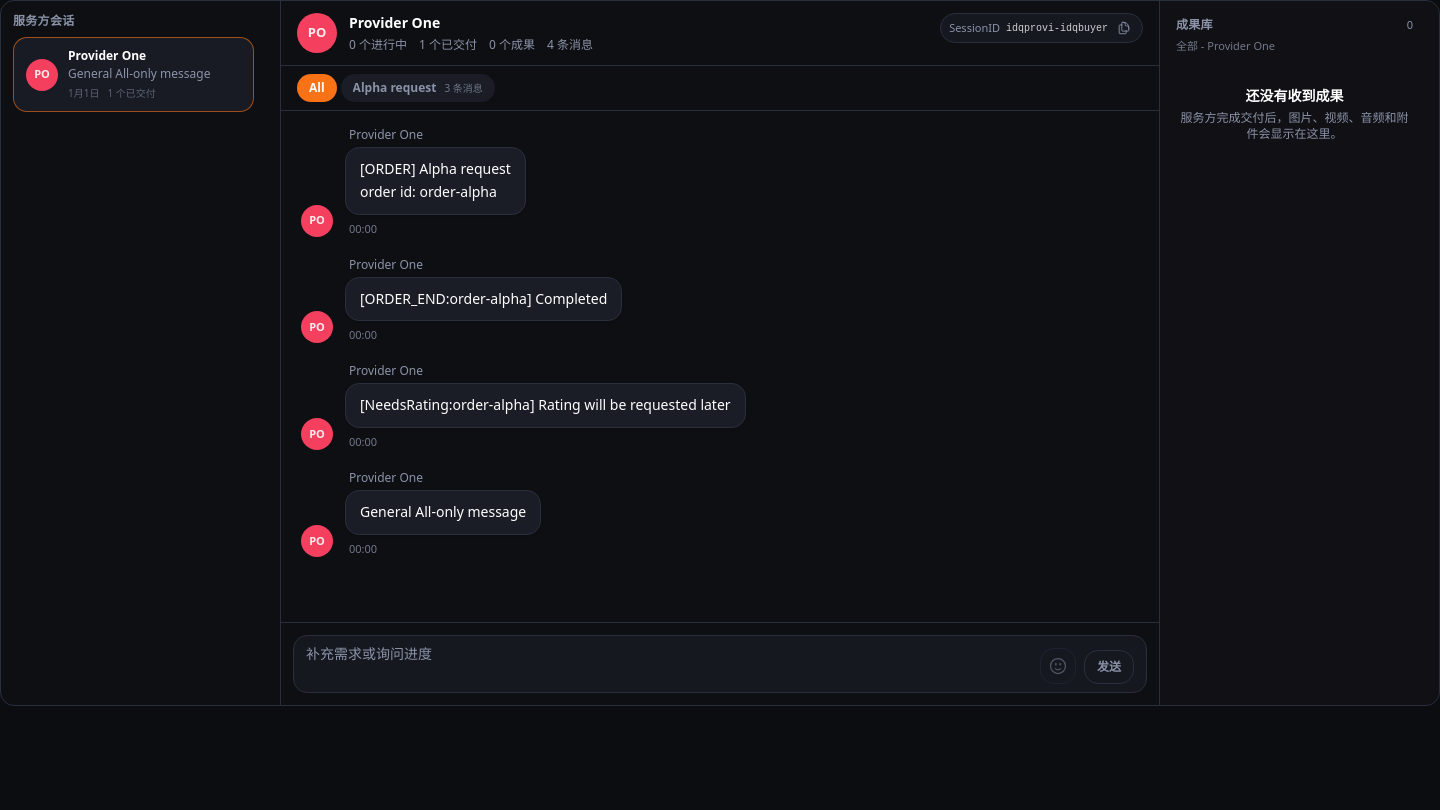
Test case: DeliveryPage layout › shows order protocol messages in All and the matching order tab
Expected: the text "[ORDER_END:order-alpha] Completed" is shown, x1=360 y1=288 x2=607 y2=310
Expected: the text "[NeedsRating:order-alpha] Rating will be requested later" is shown, x1=360 y1=394 x2=731 y2=417
Step 1. Click the tab "Alpha request 3 条消息" → (418, 88), box x1=341 y1=74 x2=495 y2=102
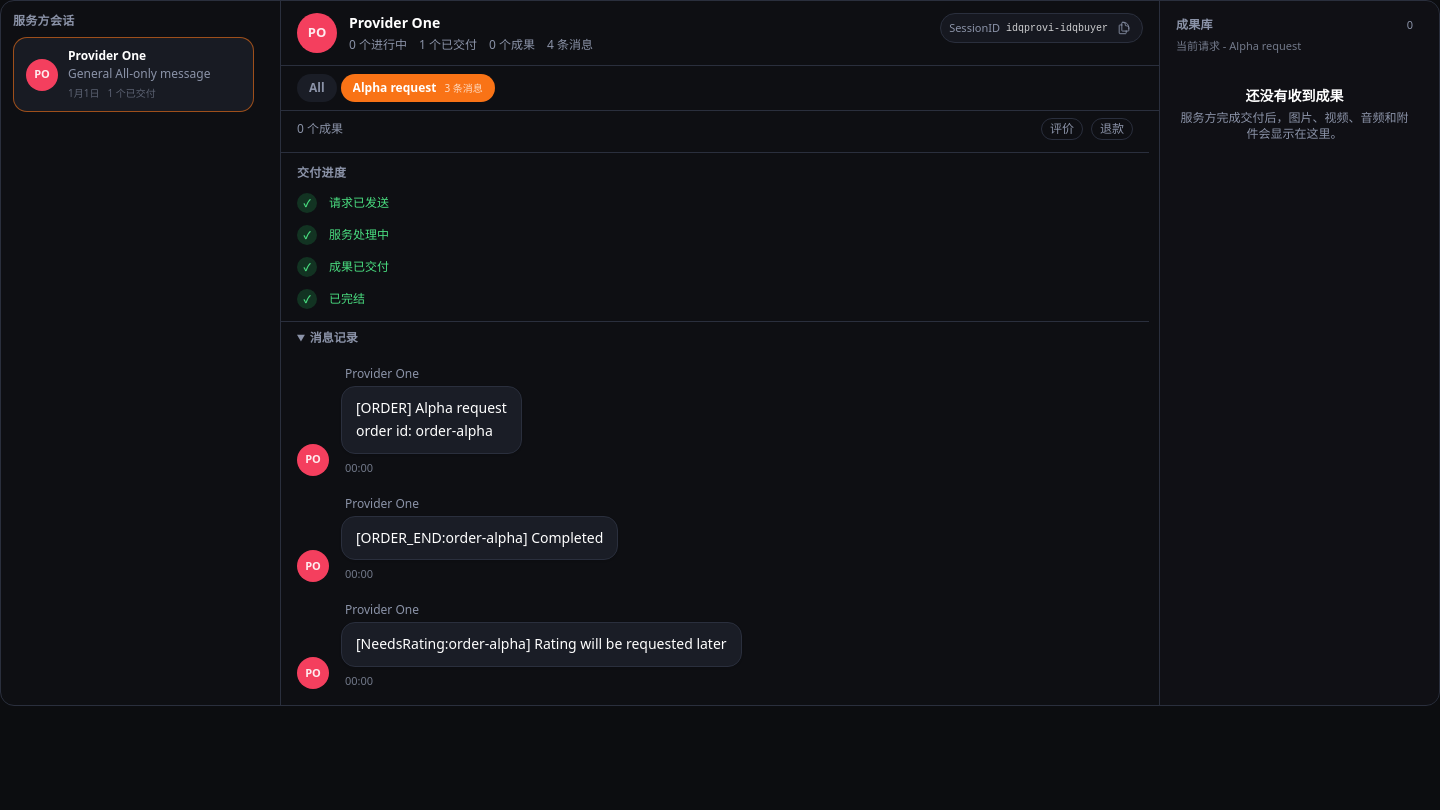
Expected: the text "[ORDER_END:order-alpha] Completed" is shown, x1=356 y1=526 x2=603 y2=549
Expected: the text "消息记录" is shown, x1=310 y1=329 x2=358 y2=346
